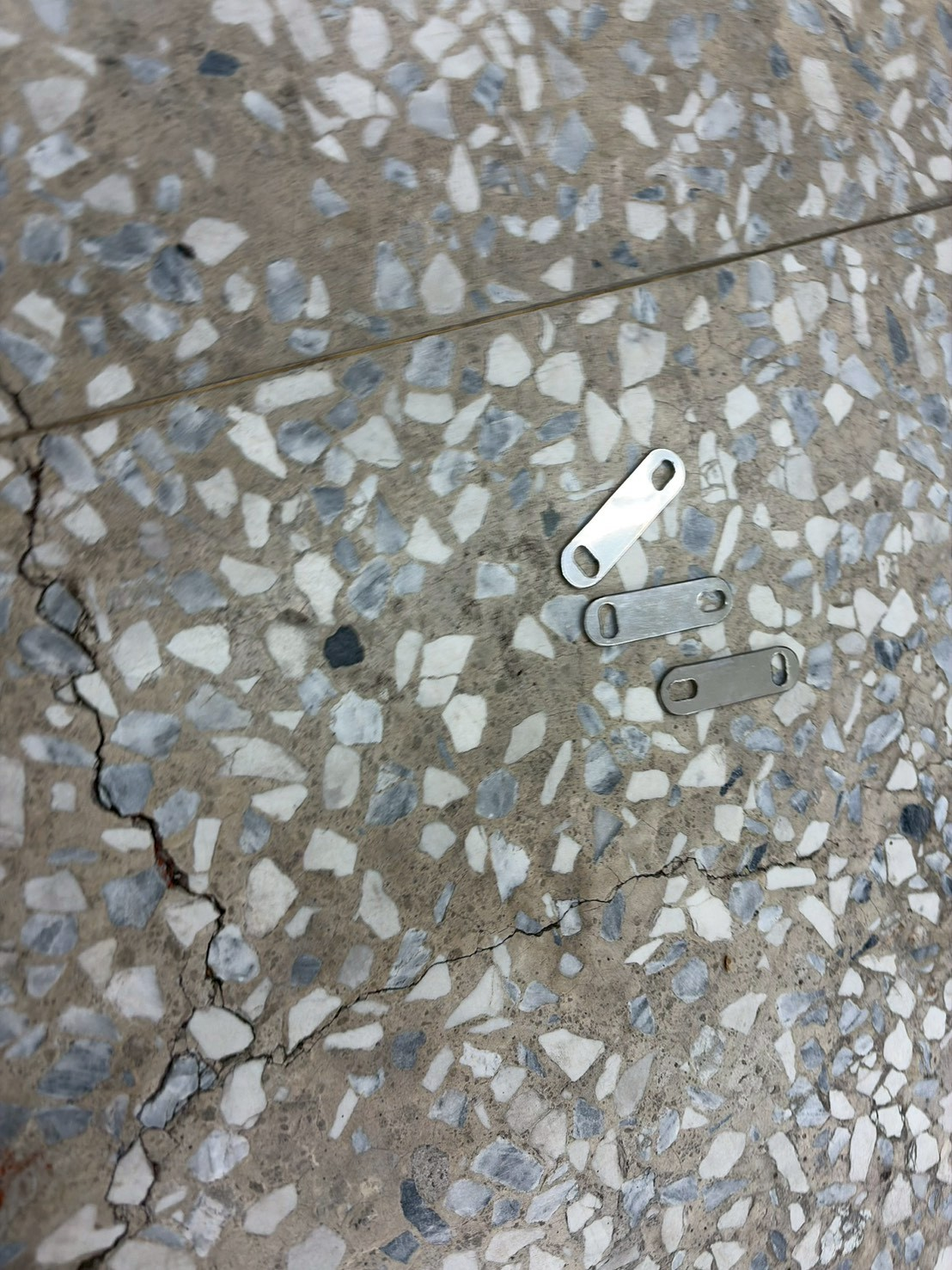Fe: (663, 438, 715, 608), (741, 570, 789, 740), (798, 642, 846, 796)
